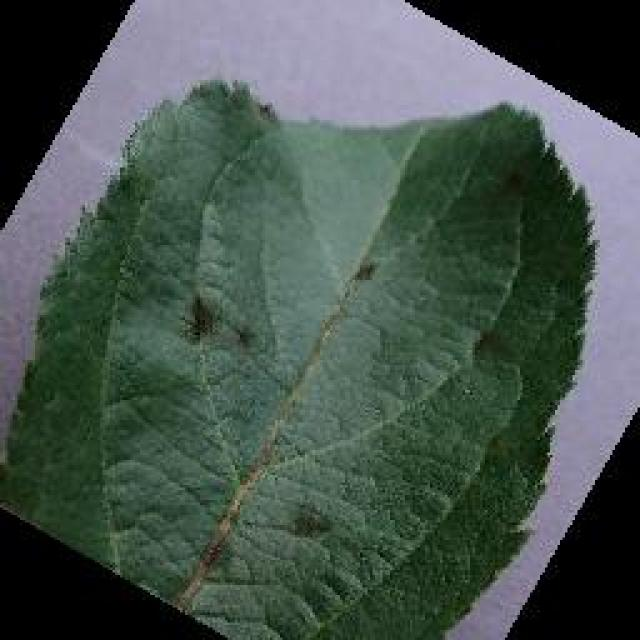apple scab disease: (0, 74, 602, 637)
